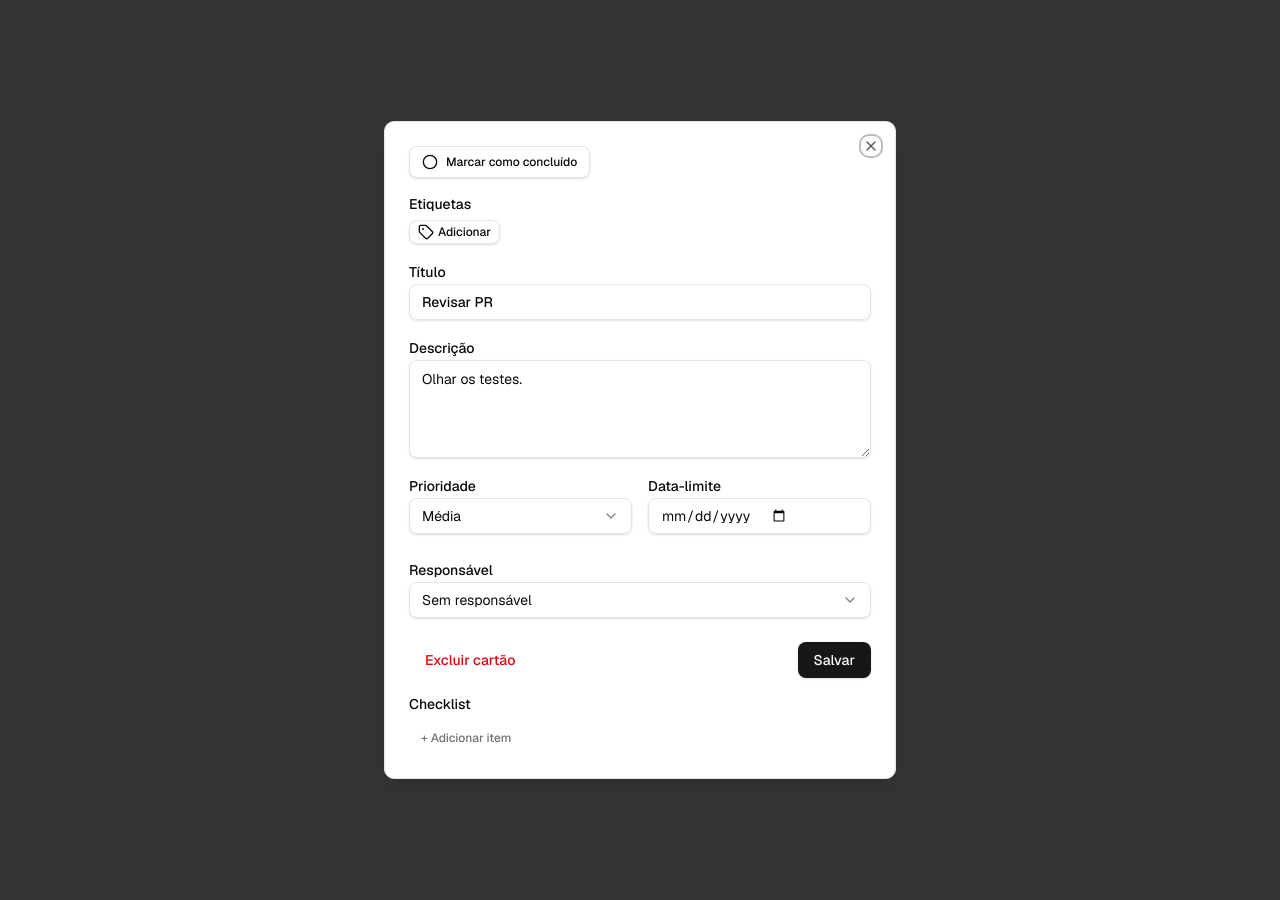
Test: CardDetailModal - alterações não salvas › pede confirmação ao fechar com edição não salva, e 'continuar editando' mantém o valor
The width and height of the screenshot is (1280, 900).
Type " (rascunho)" into the field labelled "Título" at coordinates (640, 302), box 409,284 -> 871,320
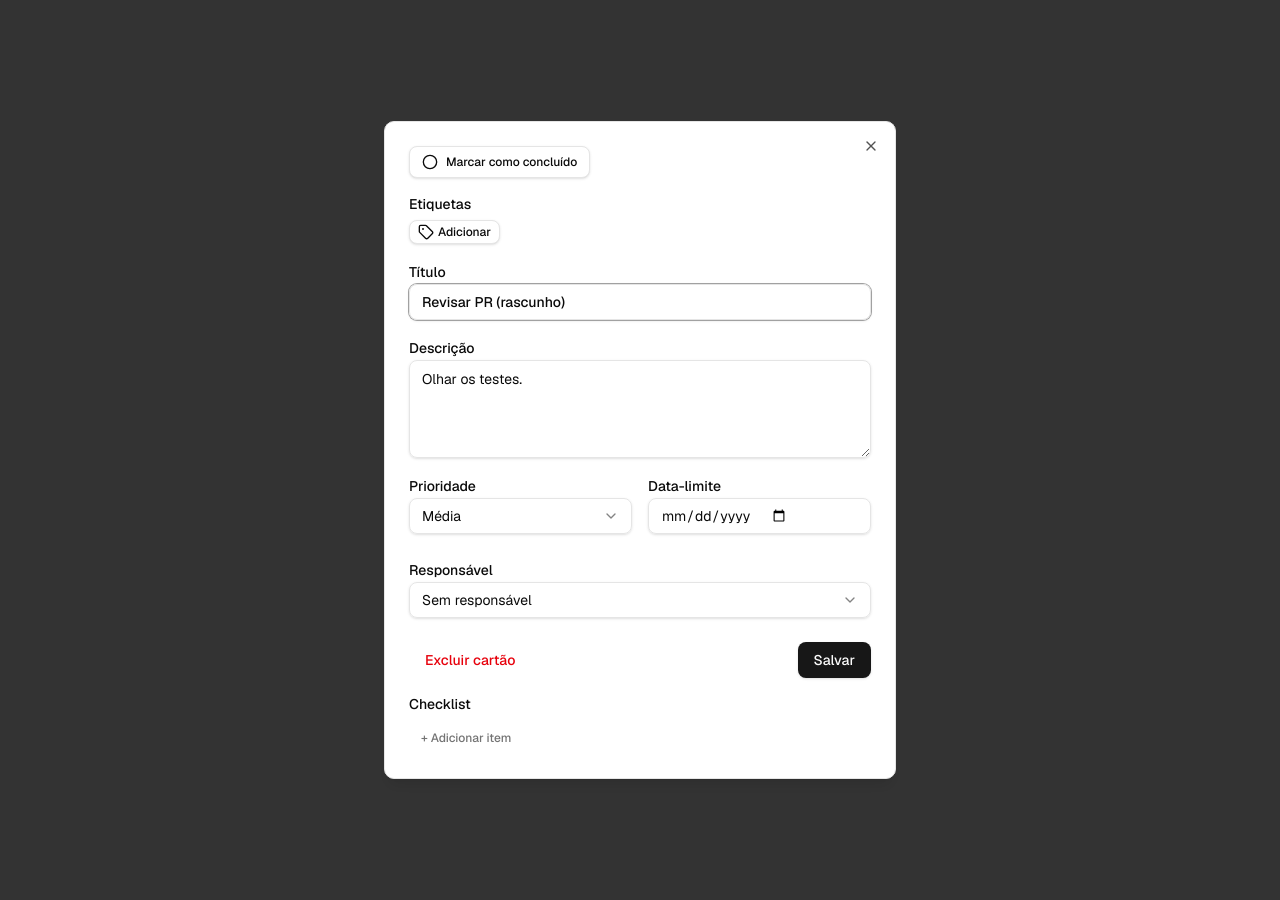
Click the button named "close" at coordinates (871, 146), box 863,138 -> 879,154
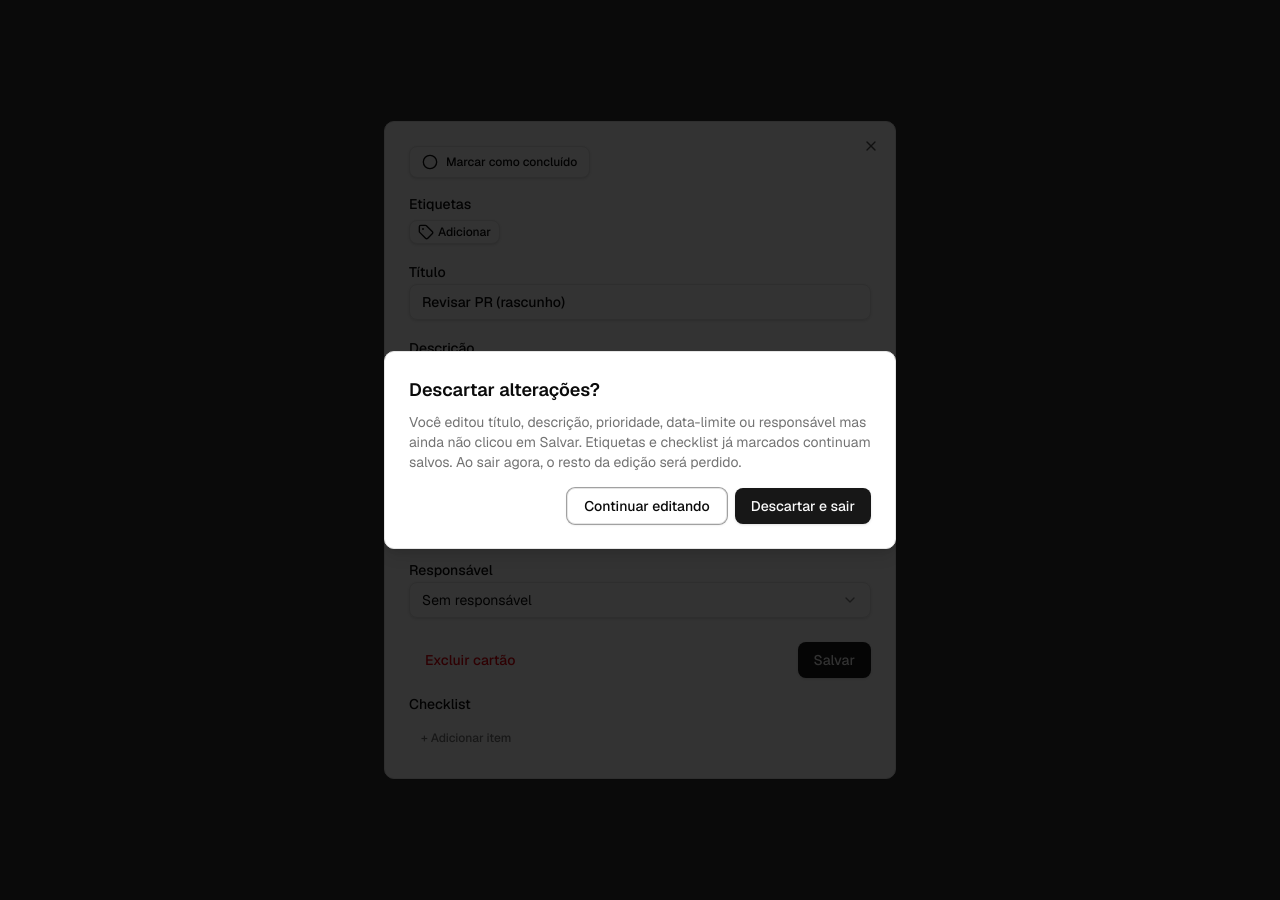
Now the heading "Descartar alterações?" is shown, box 409,378 -> 600,401
Click the button "Continuar editando" at coordinates (647, 506), box 567,488 -> 727,524
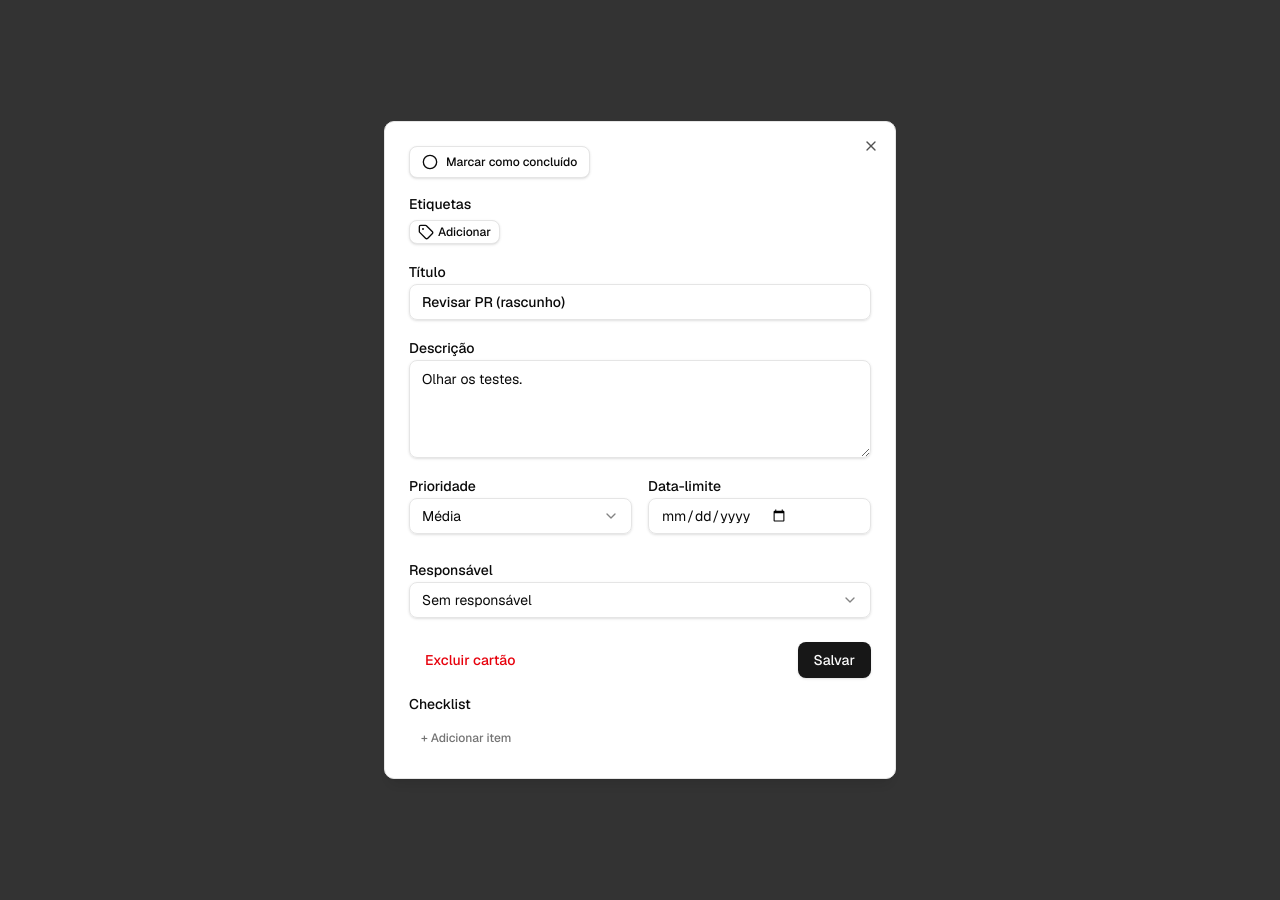
Now the field labelled "Título" holds "Revisar PR (rascunho)", box 409,284 -> 871,320
Now the heading "Descartar alterações" is gone
